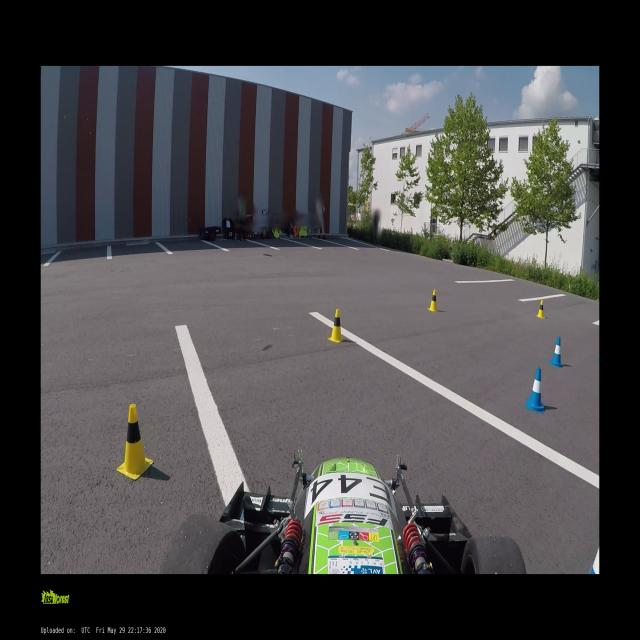blue_cone: (526, 368, 544, 414), (549, 336, 563, 368)
yellow_cone: (118, 403, 153, 479), (327, 309, 345, 343), (428, 289, 439, 312), (537, 300, 545, 320)
